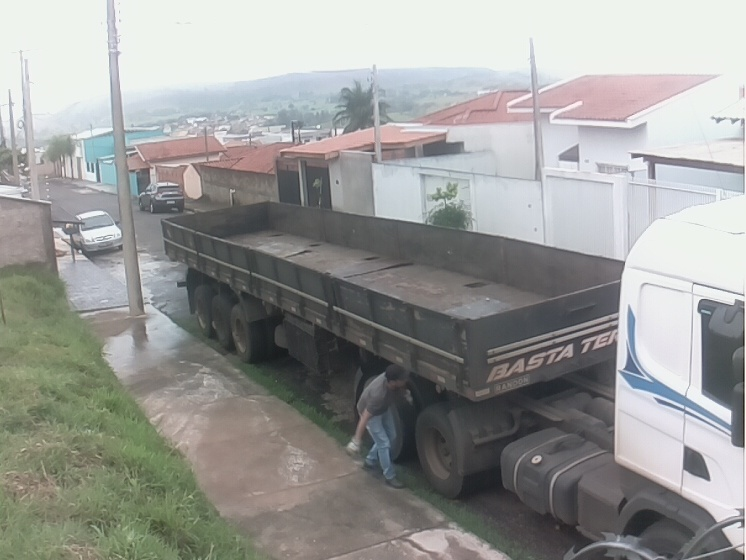person: (344, 362, 417, 490)
